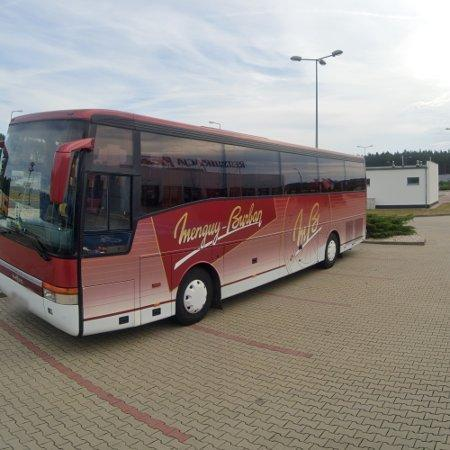buses: (0, 110, 367, 337)
